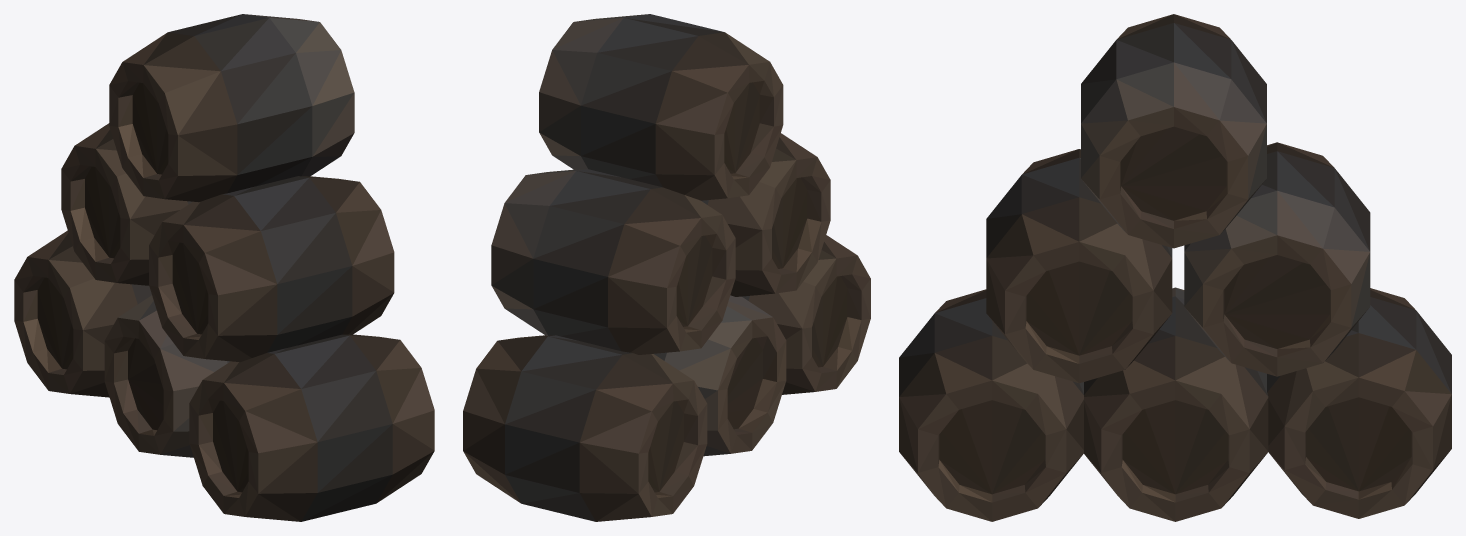
File: prop_container_barrel_stack_2.fbx
3 renders of one model, left to right at view 1: azimuth 30°, elevation 25°; view 2: azimuth 150°, elevation 25°; view 3: azimuth 270°, elevation 25°, orthographic. The views are drawn at different scales.
Visible parts, largest first — view 1: prop_container_barrel_stack_2; view 2: prop_container_barrel_stack_2; view 3: prop_container_barrel_stack_2.
Part boxes in pixels (x1,y1,x2,y2): prop_container_barrel_stack_2: (14,14,434,521); prop_container_barrel_stack_2: (463,14,870,521); prop_container_barrel_stack_2: (899,14,1451,521).
Bounding box in the file's own units: 1.27 × 2.73 × 3.01.
